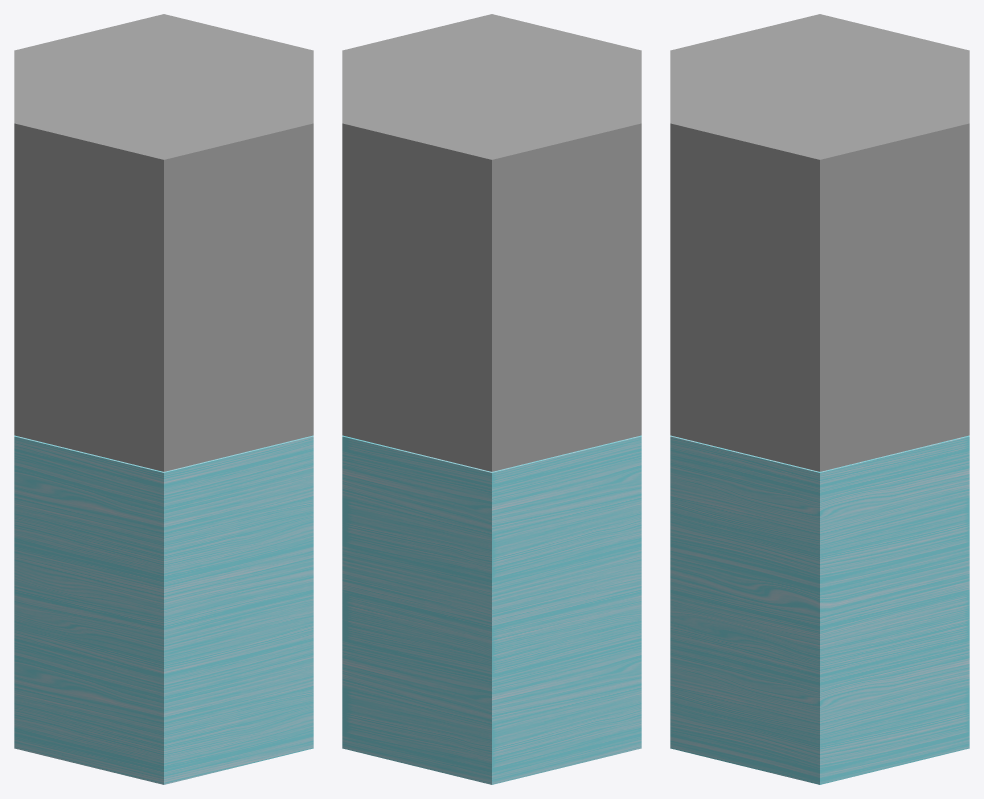
File: New_Circledisplayed.fbx
3 renders of one model, left to right at view 1: azimuth 30°, elevation 25°; view 2: azimuth 150°, elevation 25°; view 3: azimuth 270°, elevation 25°, orthographic.
Visible parts, largest first — view 1: cyclinderdisplay1, cyclinderdisplay; view 2: cyclinderdisplay1, cyclinderdisplay; view 3: cyclinderdisplay1, cyclinderdisplay.
Part boxes in pixels (box(x1,y1,x2,y2)): cyclinderdisplay1: box(14, 14, 313, 471); cyclinderdisplay: box(14, 435, 313, 784); cyclinderdisplay1: box(342, 14, 641, 471); cyclinderdisplay: box(342, 435, 641, 784); cyclinderdisplay1: box(670, 14, 969, 471); cyclinderdisplay: box(670, 435, 969, 784).
Size of the model in its own units: 26.8 by 53.53 by 23.21.
2 materials, 1 textured.
